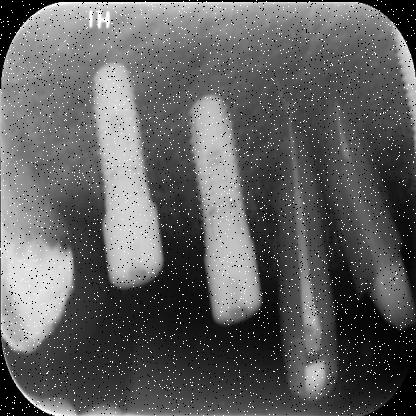Bego: (66, 58, 172, 302), (166, 91, 274, 325)
